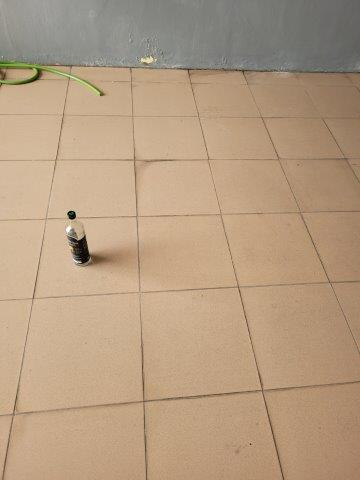botolkaca: (66, 212, 91, 265)
